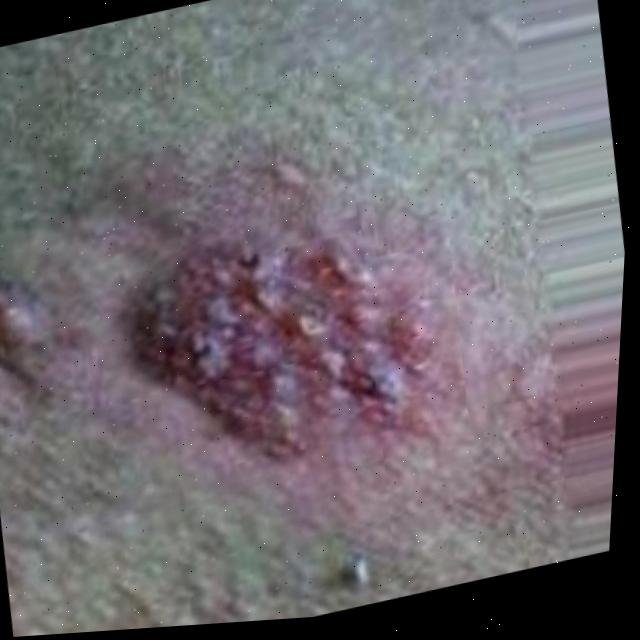Shingles: (107, 194, 431, 497)
